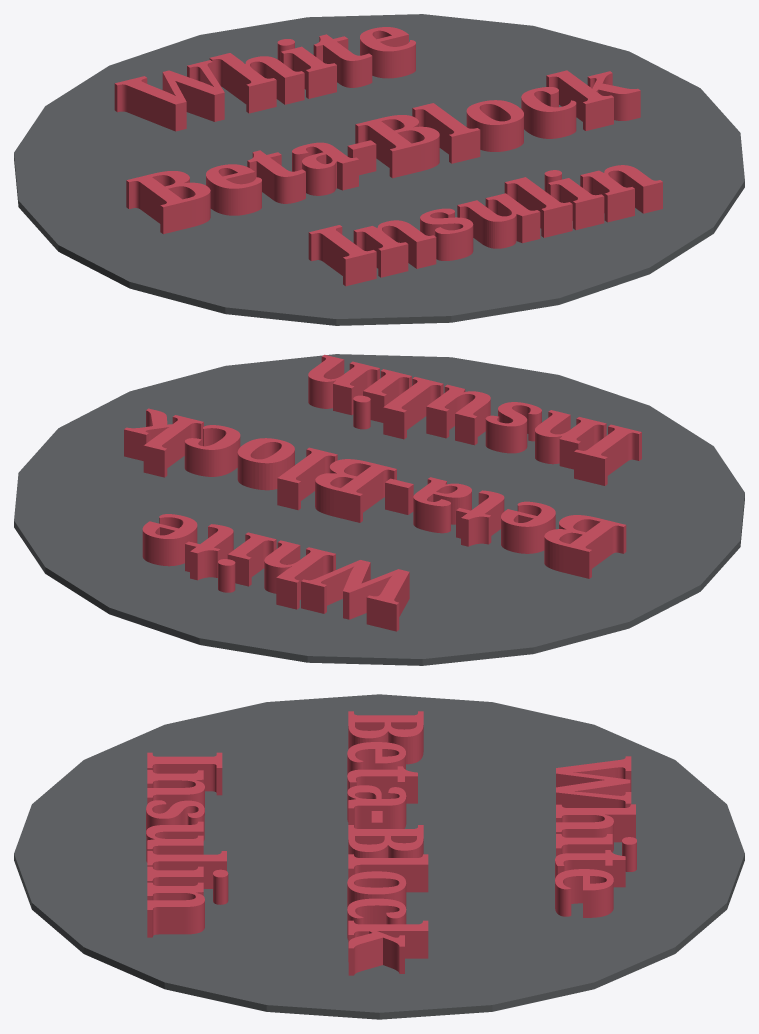
The model's file is nashville.gltf.
3 views of the same model, one above another, from view 1: azimuth 30°, elevation 25°; view 2: azimuth 150°, elevation 25°; view 3: azimuth 270°, elevation 25° (orthographic).
Visible parts, largest first — view 1: Mesh_Mesh_head_geo001_lambert2SG001; view 2: Mesh_Mesh_head_geo001_lambert2SG001; view 3: Mesh_Mesh_head_geo001_lambert2SG001.
Part boxes in pixels (x1,y1,x2,y2): Mesh_Mesh_head_geo001_lambert2SG001: [14, 14, 744, 325]; Mesh_Mesh_head_geo001_lambert2SG001: [14, 354, 744, 665]; Mesh_Mesh_head_geo001_lambert2SG001: [14, 694, 744, 1019].
Size of the model in its own units: 199 by 10 by 193.
